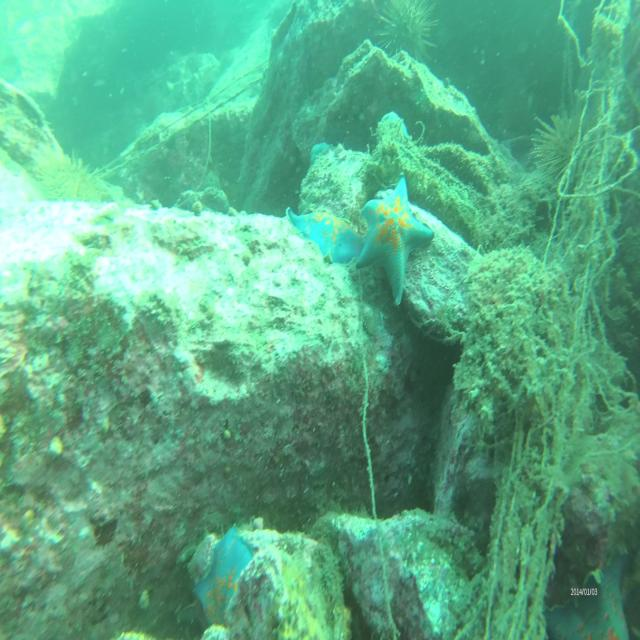echinus: (372, 0, 437, 79), (530, 105, 592, 185)
starfish: (356, 172, 436, 305), (538, 540, 640, 640), (194, 525, 266, 634), (286, 200, 374, 270), (380, 107, 413, 146)
